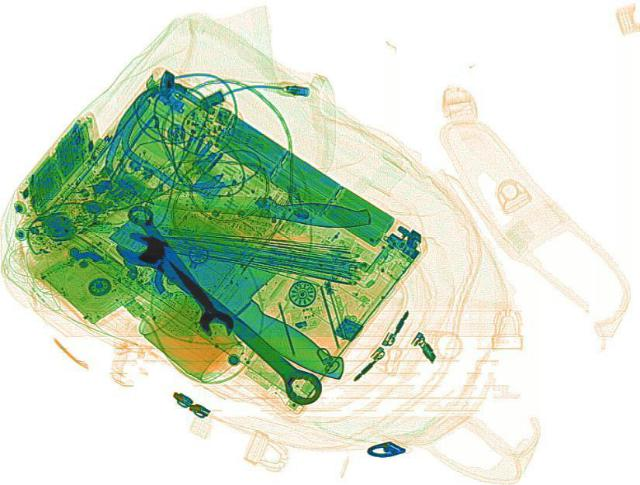Knife: (97, 189, 395, 384), (142, 186, 372, 230)
Wrench: (106, 226, 337, 407)
